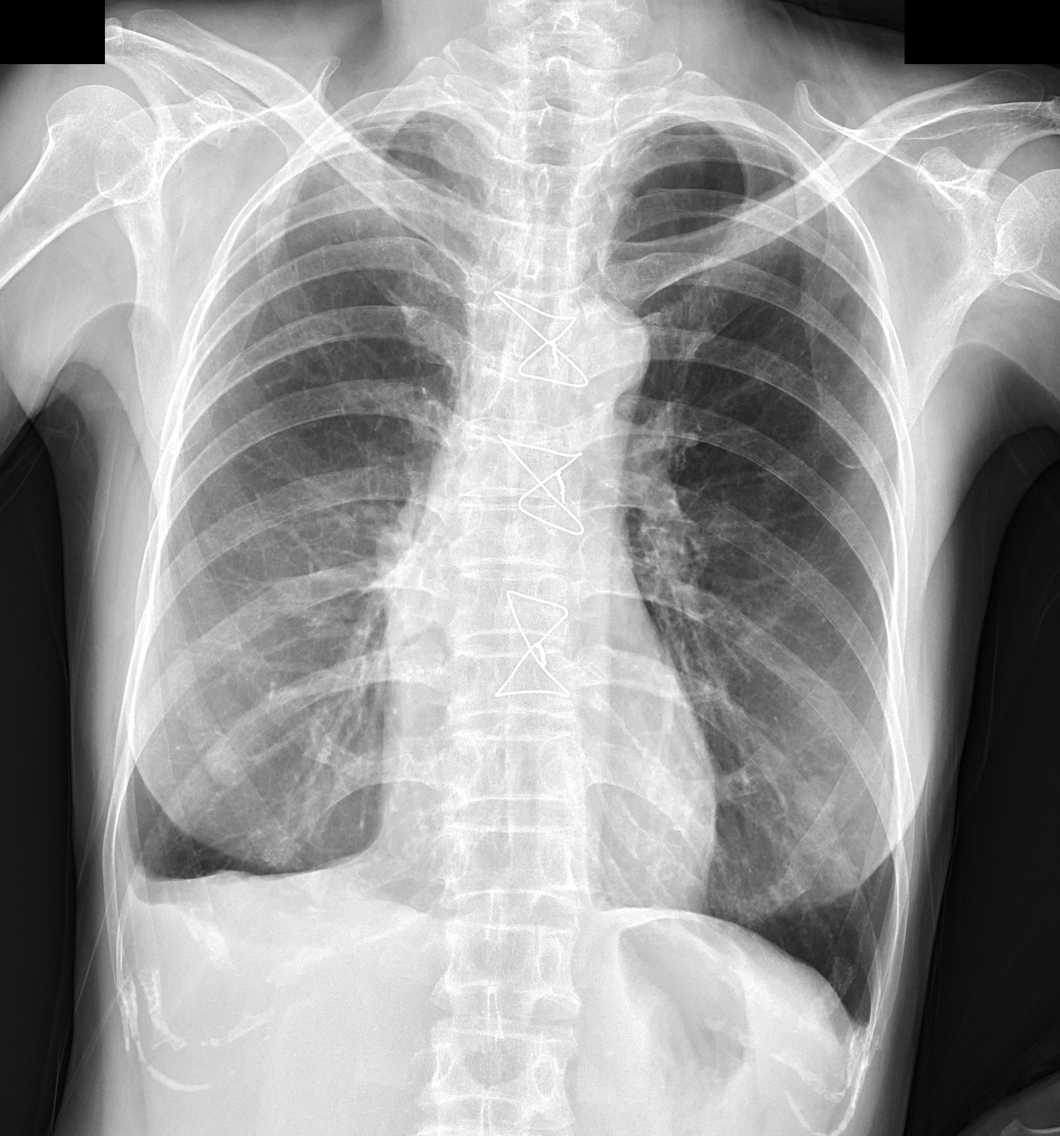Aortic enlargement: (544, 294, 652, 407)
Pleural thickening: (111, 828, 158, 943), (350, 104, 477, 140), (851, 1007, 875, 1072)
